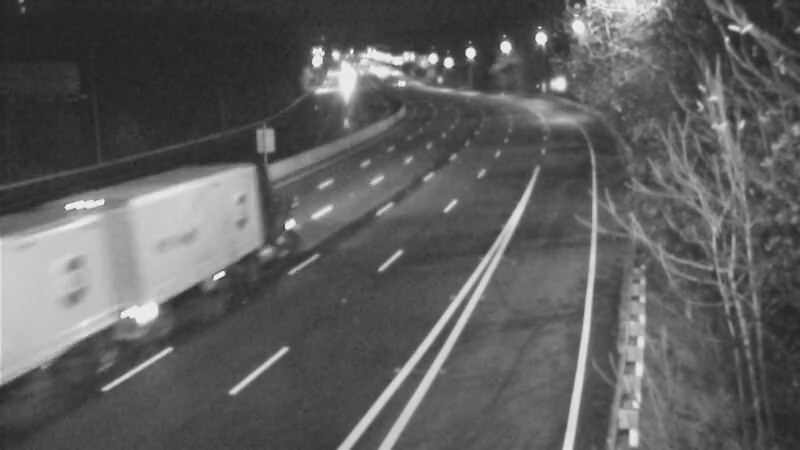vehicle: (176, 174, 256, 254), (375, 57, 425, 107)
